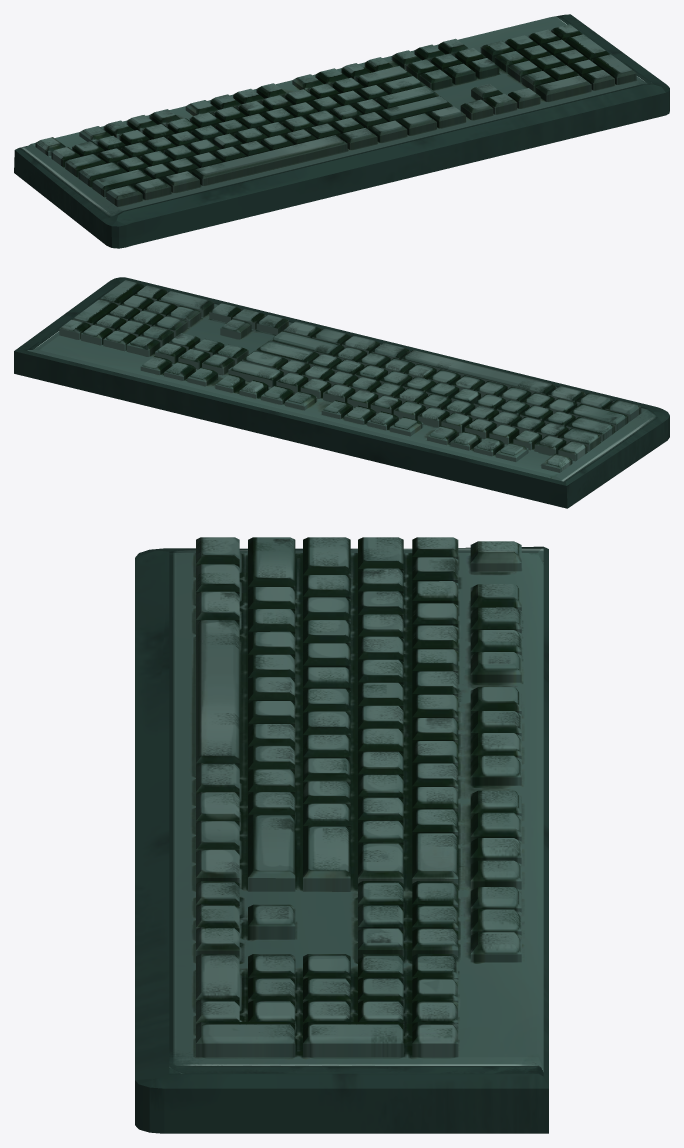
File: Keyboard.fbx
3 views of the same model, one above another, from view 1: azimuth 30°, elevation 25°; view 2: azimuth 150°, elevation 25°; view 3: azimuth 270°, elevation 25° (orthographic). The views are drawn at different scales.
Visible parts, largest first — view 1: Keyboard Texture; view 2: Keyboard Texture; view 3: Keyboard Texture.
Part boxes in pixels (left/top/right/bottom): Keyboard Texture: left=14, top=14, right=669, bottom=248; Keyboard Texture: left=14, top=277, right=669, bottom=508; Keyboard Texture: left=135, top=537, right=548, bottom=1133.
Bounding box in the file's own units: 83.64 × 5.36 × 26.88.
Materials: 1 (1 with a texture image).
